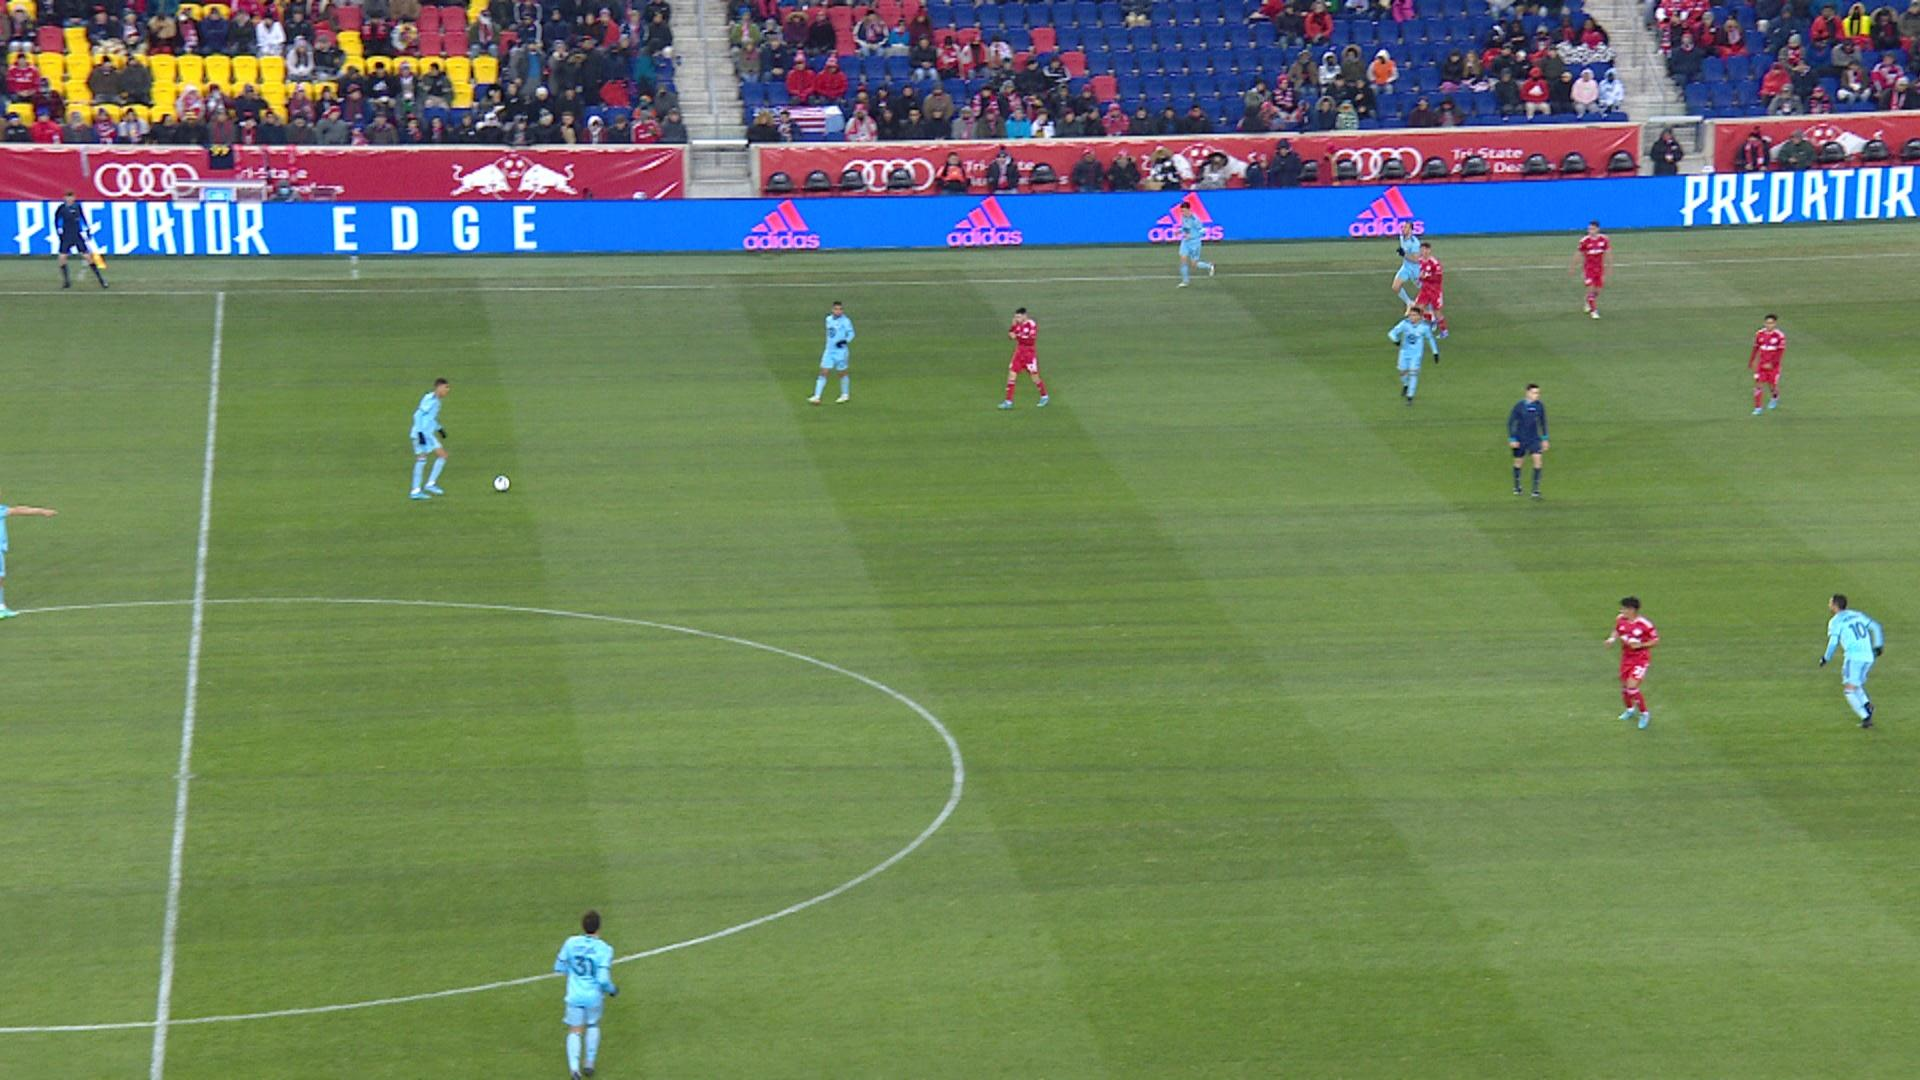football: (493, 473, 512, 493)
